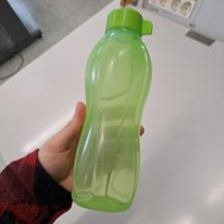bottle: (64, 7, 156, 211)
